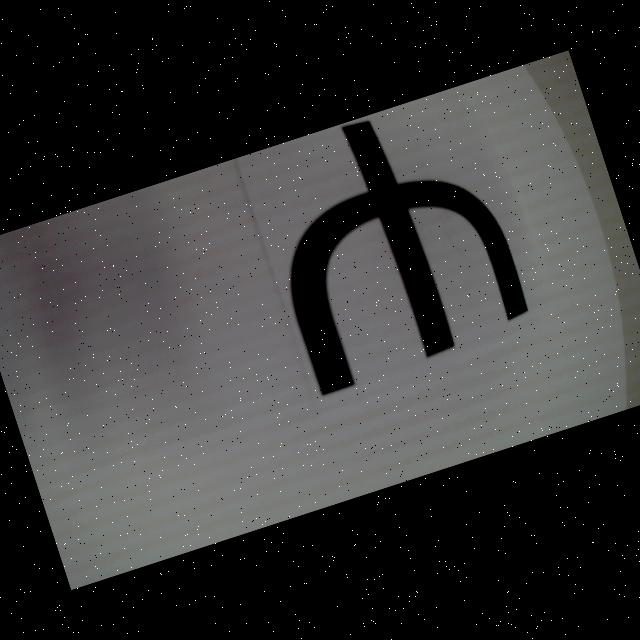PSI: (244, 88, 537, 396)
